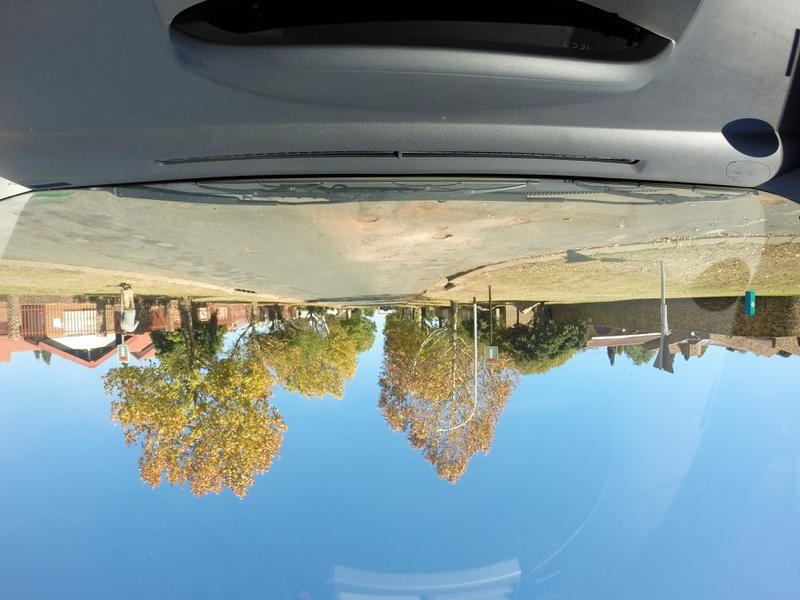pothole: (333, 206, 381, 226), (424, 222, 451, 239)
